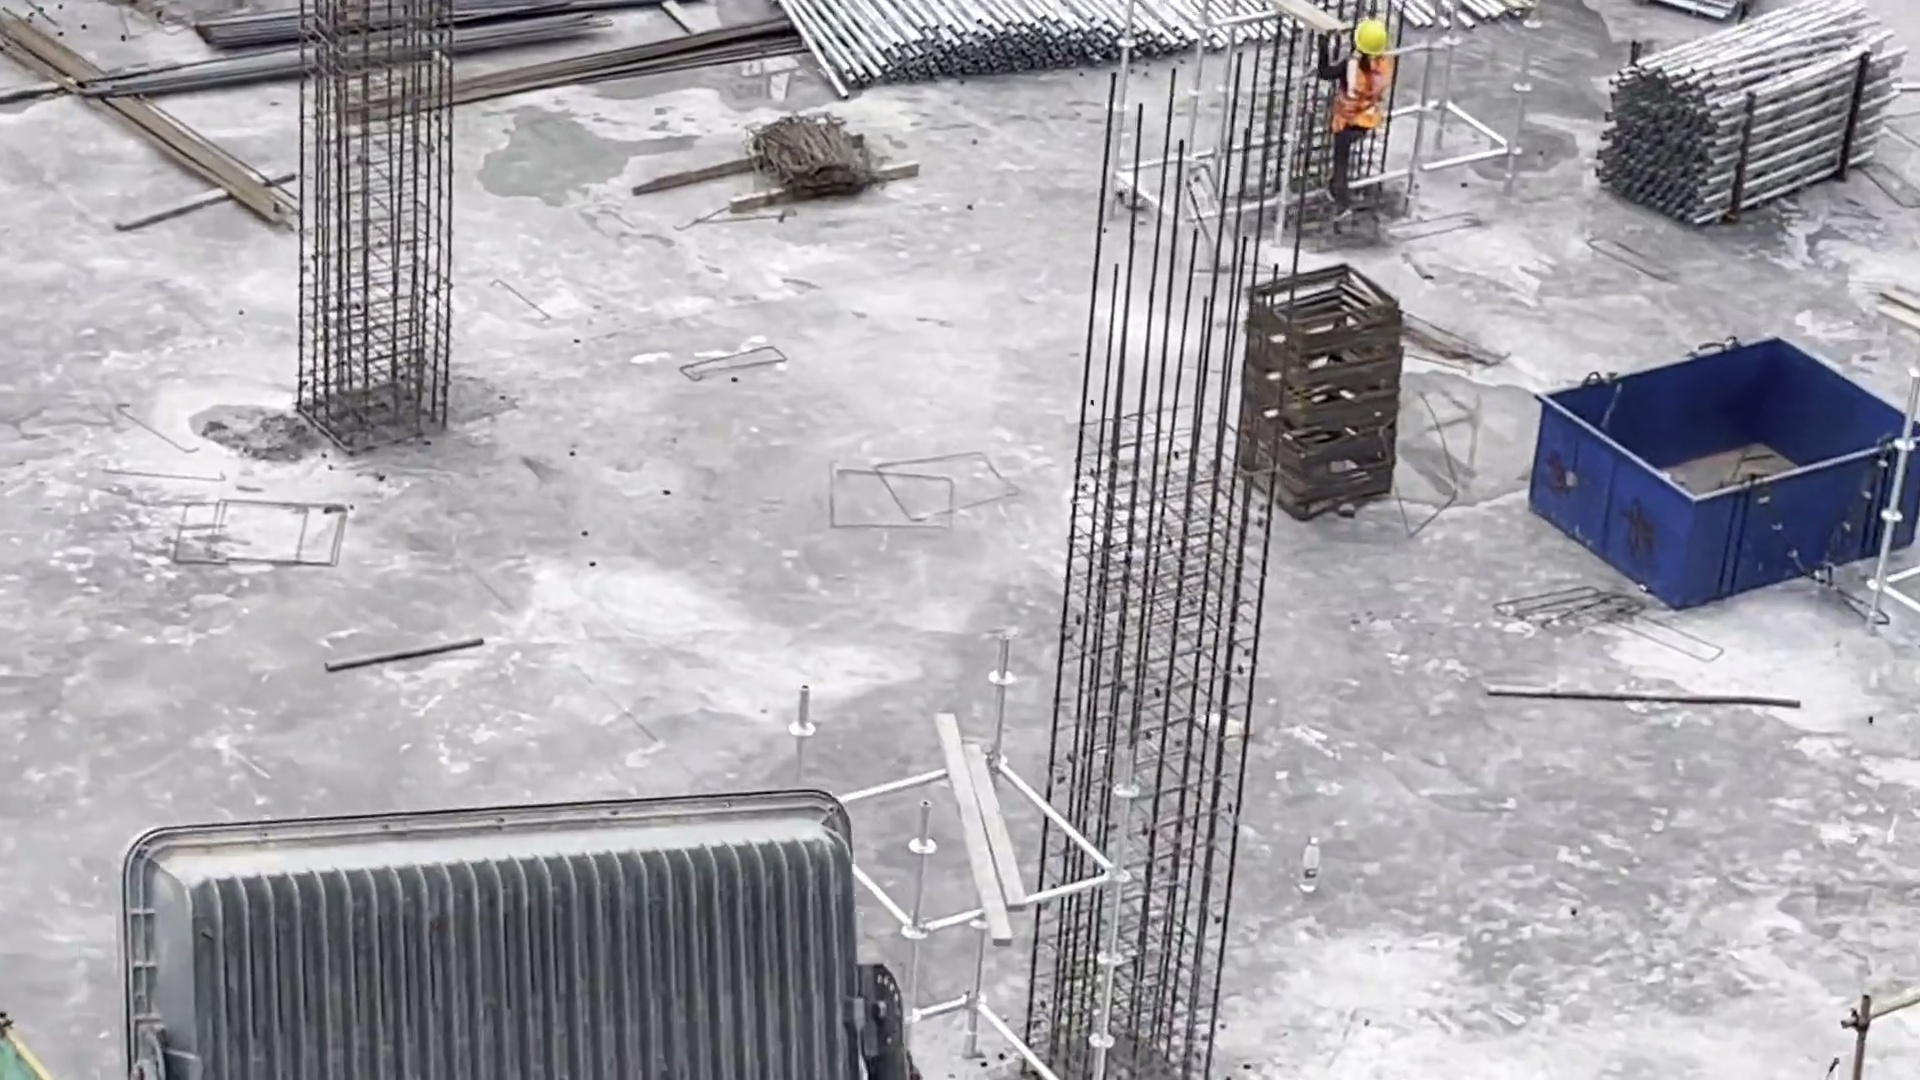helmet: (1355, 19, 1385, 56)
hopper: (1522, 328, 1920, 612)
person: (1312, 15, 1408, 215)
rebar: (338, 31, 792, 137), (103, 12, 601, 89), (211, 1, 528, 52)
scaffold: (774, 1, 1511, 96), (1591, 2, 1900, 212)
vest: (1332, 52, 1392, 145)
